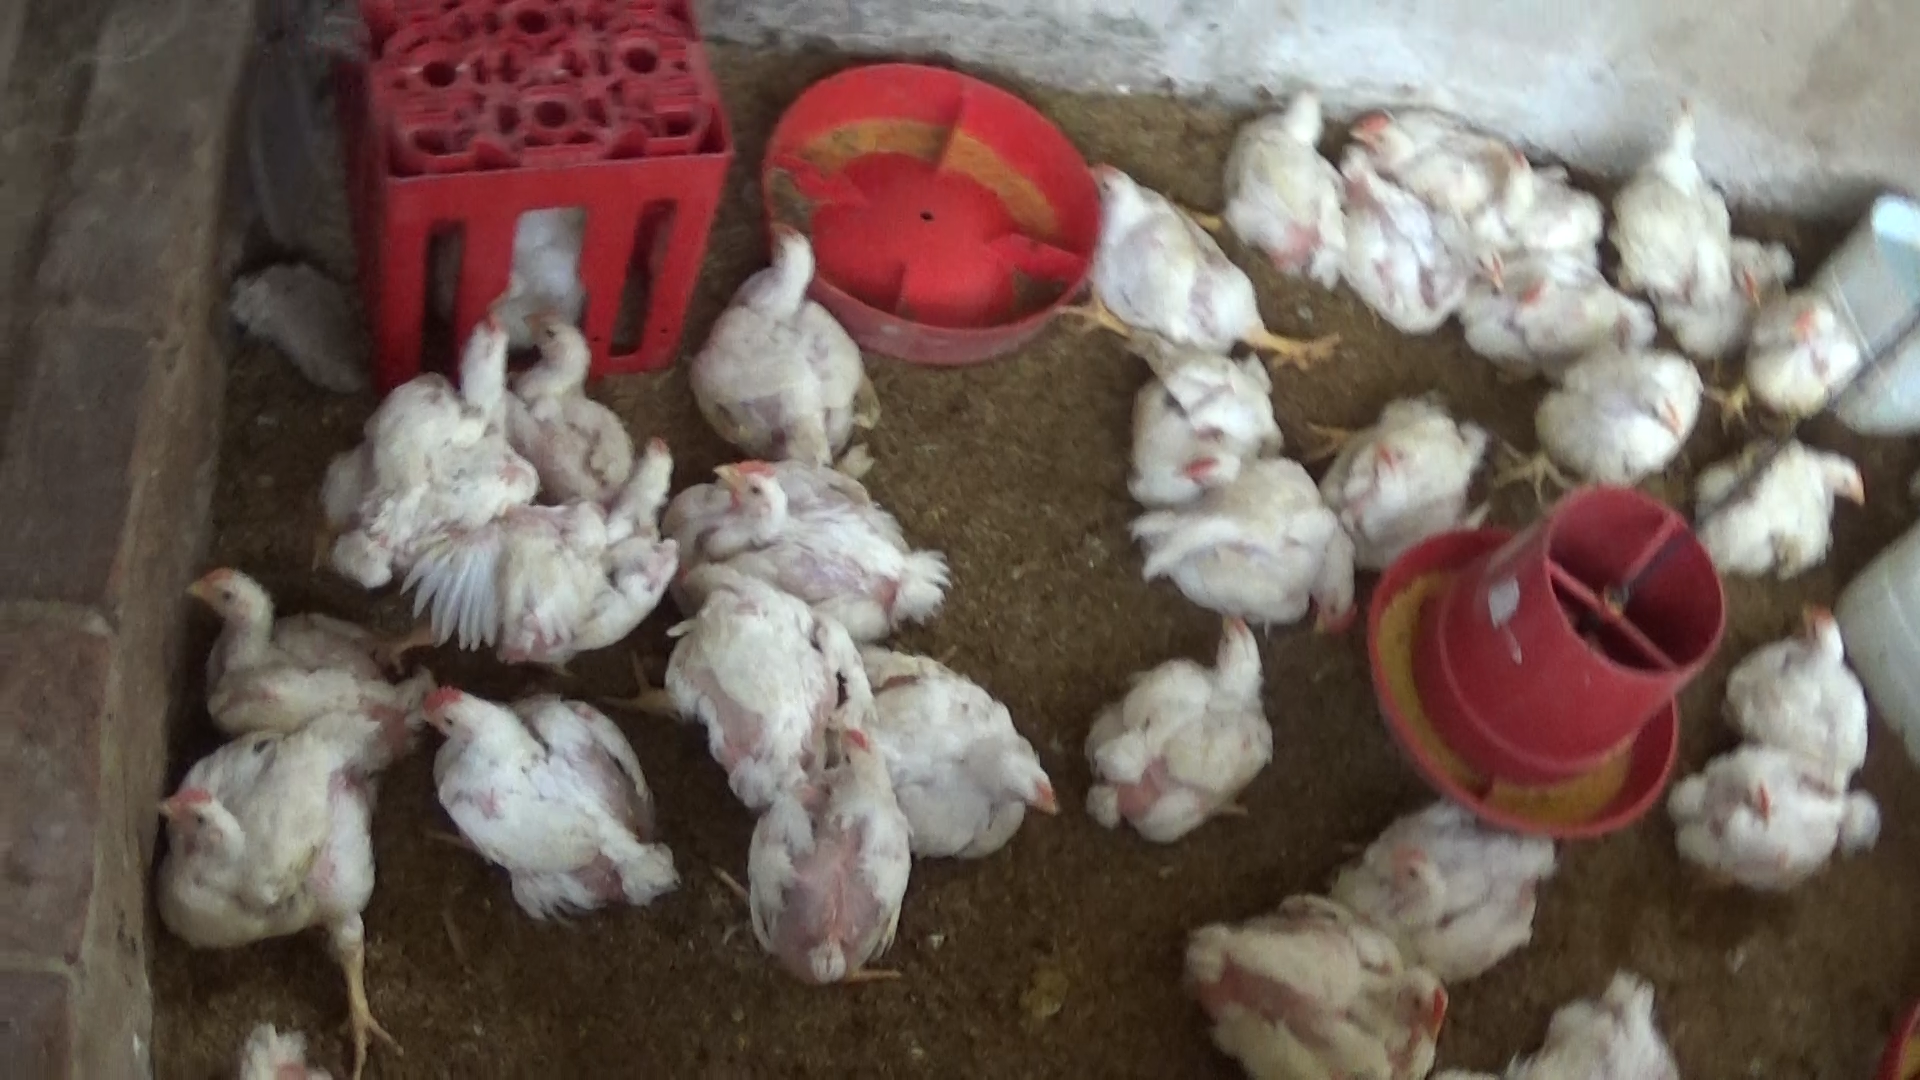Pollos: (132, 721, 401, 1073), (390, 667, 673, 924), (316, 307, 542, 576), (671, 204, 886, 483), (634, 567, 872, 804), (448, 425, 705, 637), (1067, 166, 1317, 367), (1073, 608, 1286, 843), (1168, 909, 1452, 1080), (735, 721, 902, 1009), (861, 646, 1060, 876), (676, 458, 949, 622), (1133, 448, 1360, 640), (185, 563, 425, 737), (1648, 738, 1875, 914), (1323, 794, 1545, 959), (1610, 96, 1764, 327), (1325, 160, 1509, 338), (1300, 397, 1506, 538), (1139, 311, 1316, 473), (512, 277, 641, 498), (1692, 429, 1862, 593), (1452, 241, 1669, 361), (1526, 353, 1710, 495), (1215, 87, 1348, 282), (1737, 592, 1876, 773), (1325, 92, 1515, 204), (1468, 128, 1622, 243), (1730, 291, 1855, 431)
